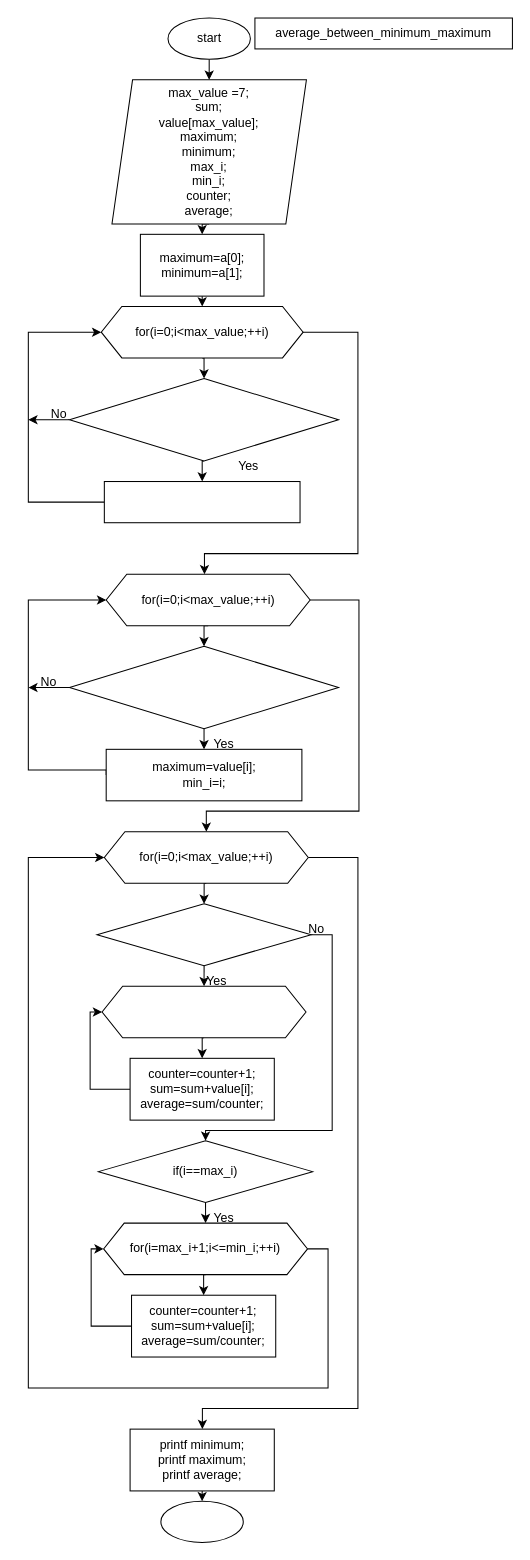
Some shapes in this 530 by 1560 pixel diagram are drawn without their labels. Each missing label, with the box of its shape:
end: (160, 1500, 243, 1542)
for(i=min_i+1;i<=max_i;++i): (101, 985, 306, 1038)
if(i==min_i): (96, 903, 311, 966)
if(value[i]<minimum): (68, 645, 339, 729)
if(value[i]>maximum): (68, 377, 339, 461)
maximum=value[i]; max_i=i;: (103, 480, 300, 523)
